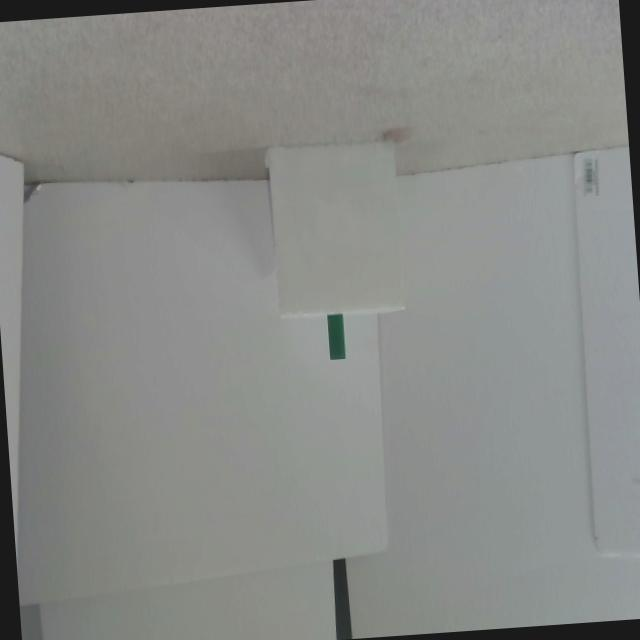green_cylinder: (326, 312, 346, 360)
